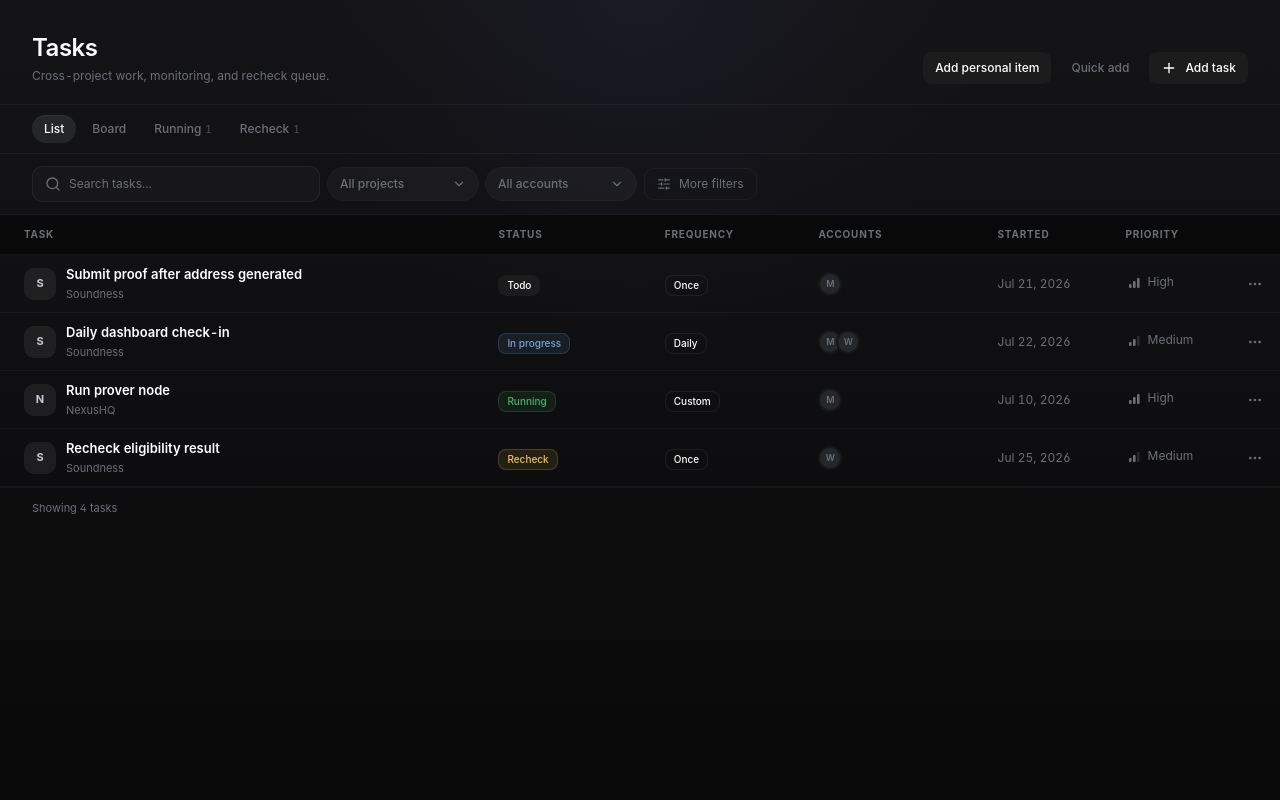
Test: TasksPreview › closes a nested dropdown before closing the Task drawer
The image size is (1280, 800).
Click the button "S Submit proof after address generated Soundness" at (243, 284), box [24,264,462,302]
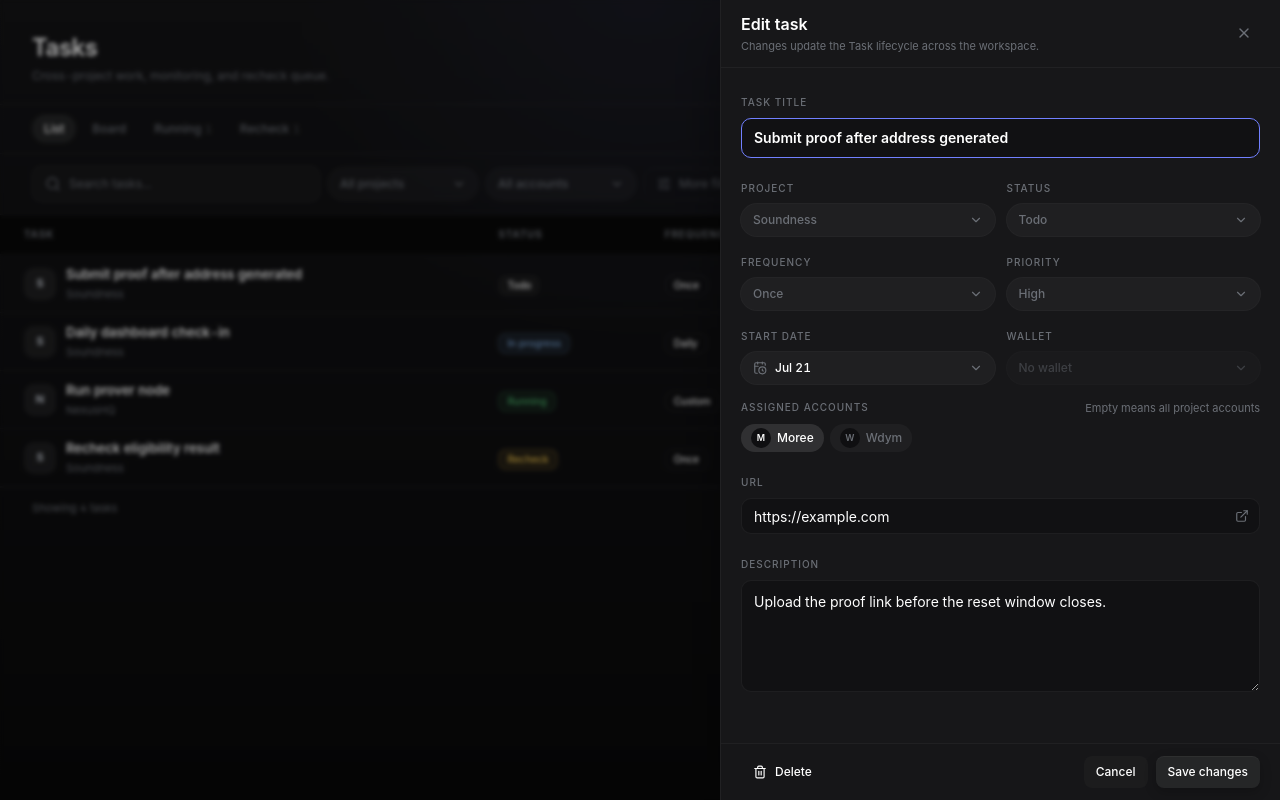
Click the button with aria-label "Status" at (1133, 220), box [1006,204,1260,236]
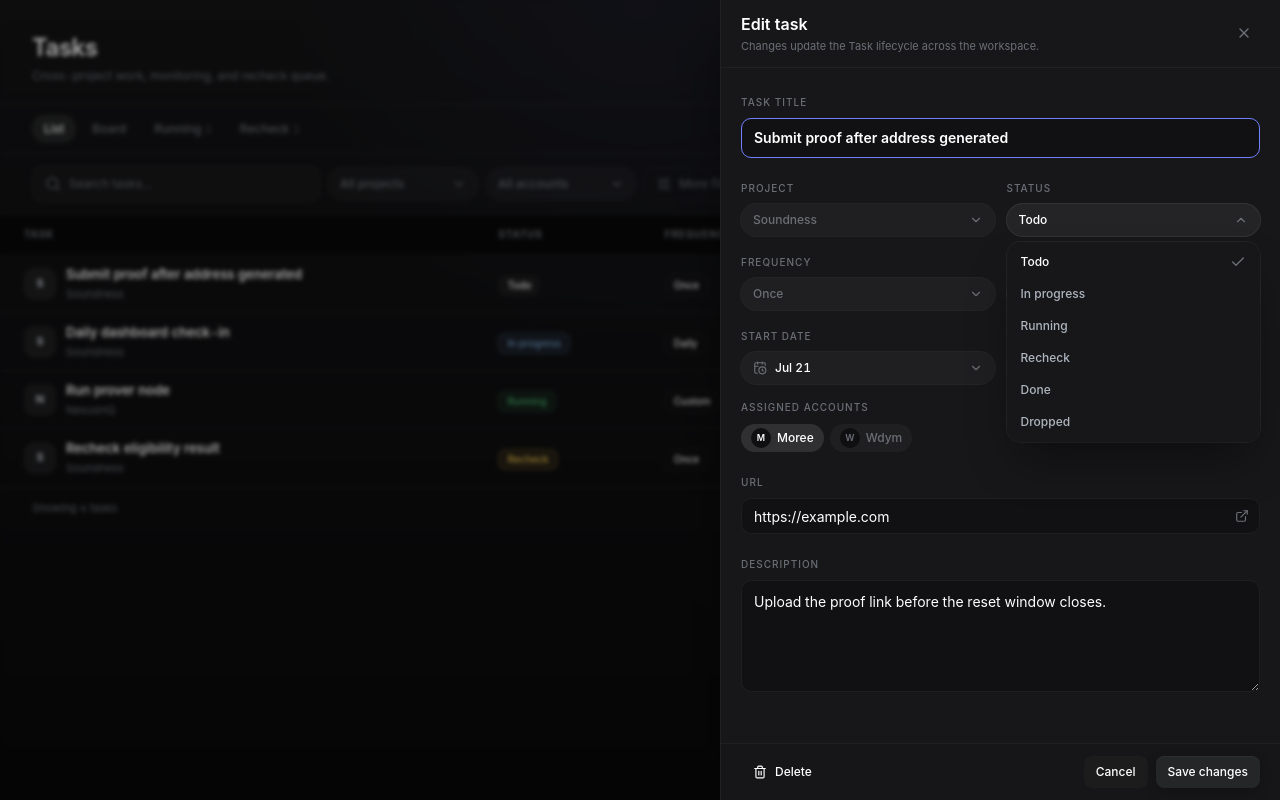
Check: the list named "Status" is shown, box [1006,242,1260,442]
Press Escape
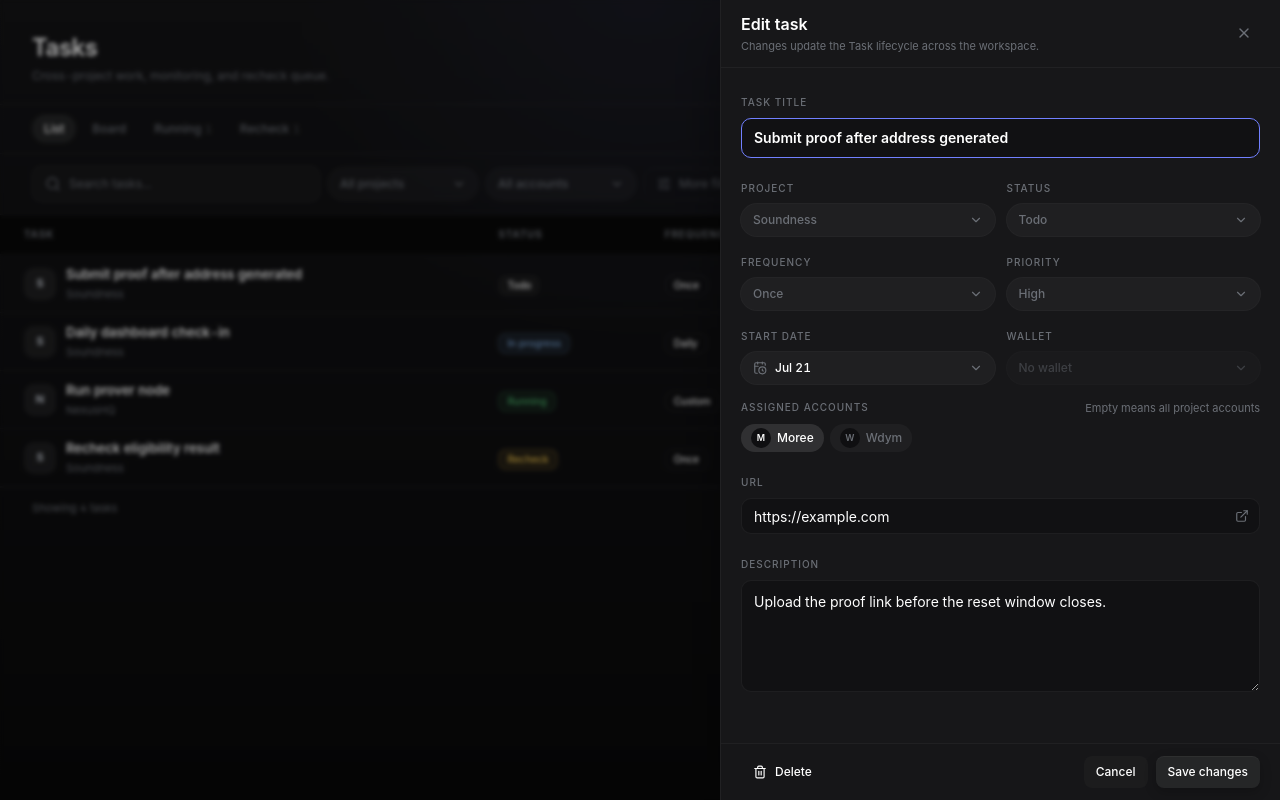
Check: the dialog "Edit task" is shown
Check: the list "Todo In progress Running Recheck Done Dropped" is gone
Press Escape
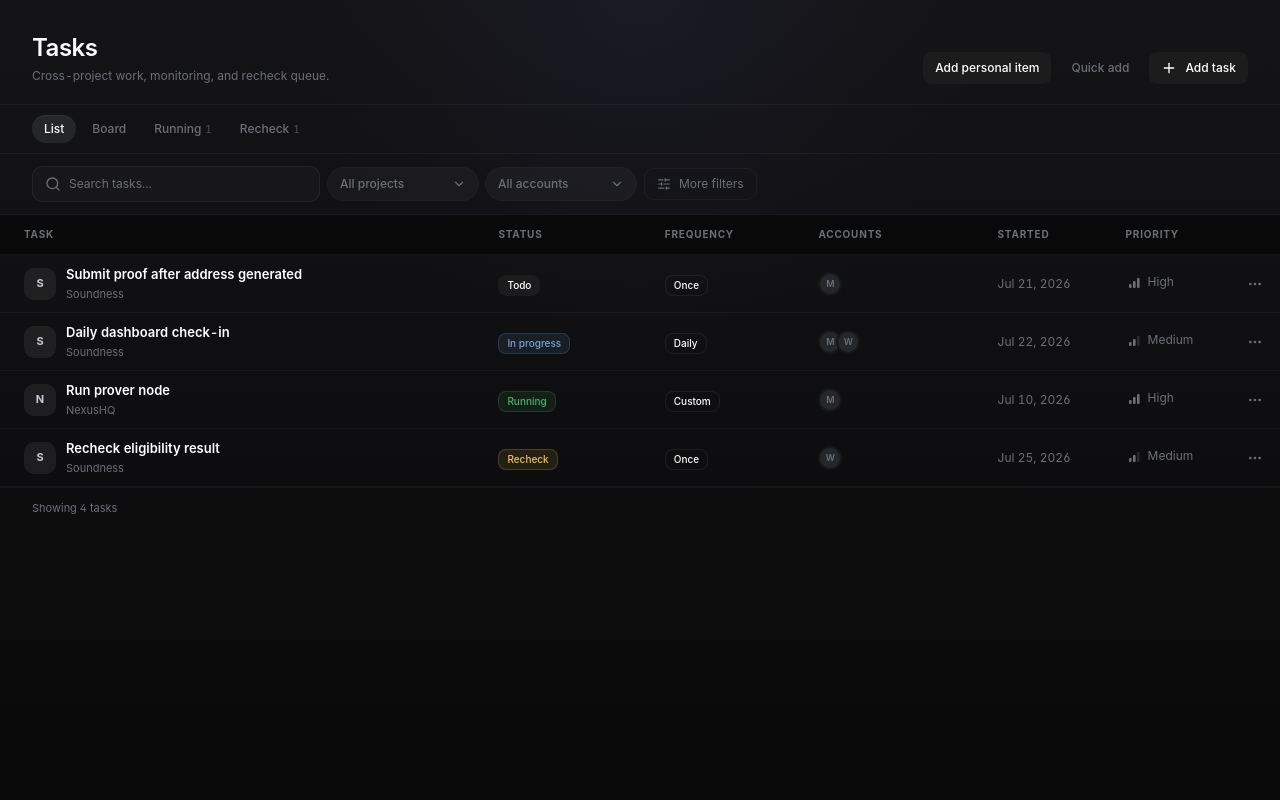
Check: the heading "Edit task" is gone
